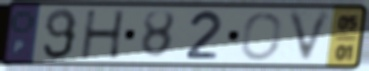2: (184, 8, 225, 64)
8: (137, 8, 178, 62)
9: (42, 7, 79, 62)
H: (80, 9, 128, 61)
O: (238, 11, 284, 62)
V: (285, 8, 336, 66)
